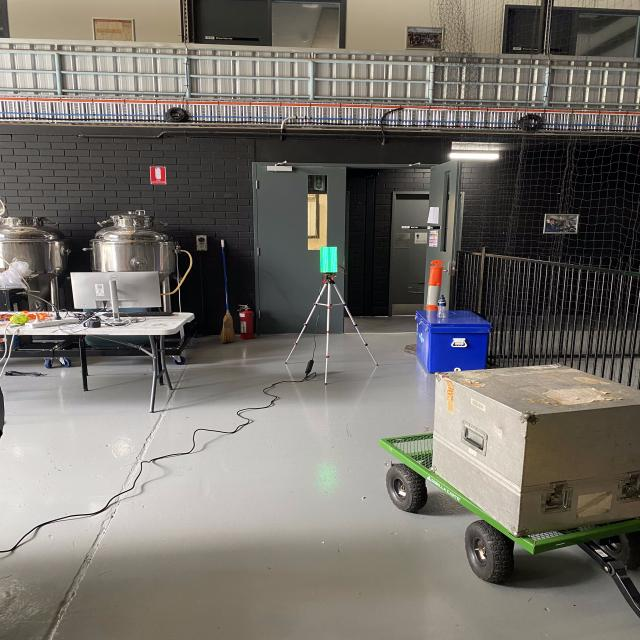matrix: (315, 245, 343, 276)
